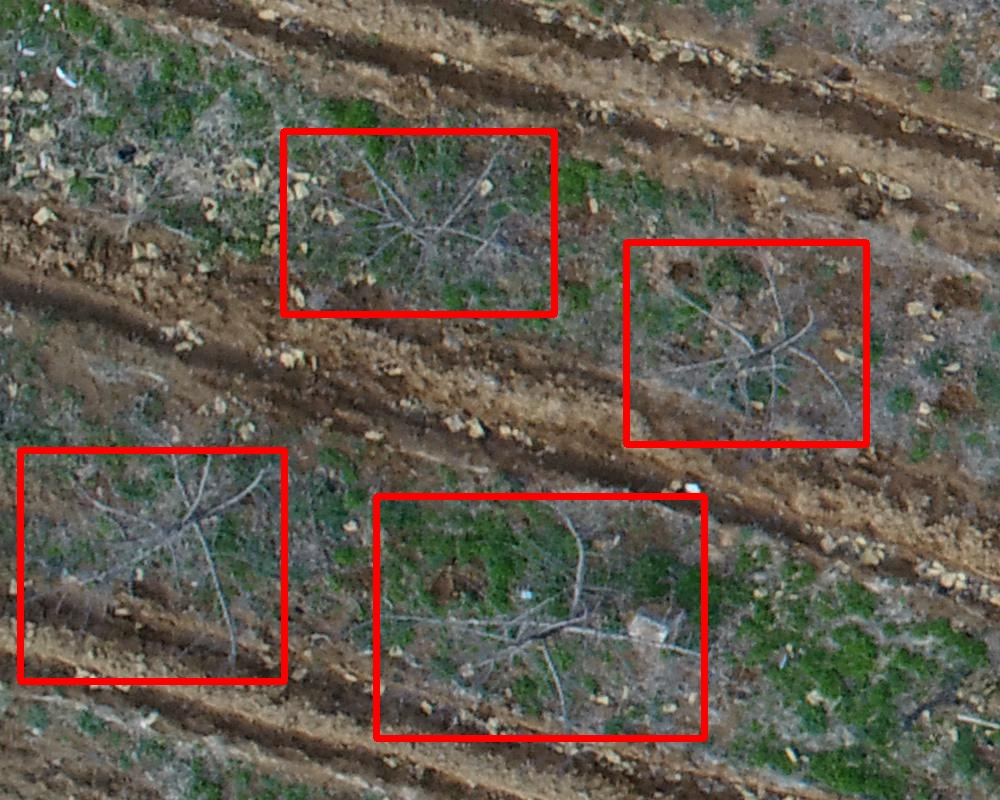apple: (376, 496, 704, 738), (20, 450, 284, 681), (283, 131, 554, 314), (626, 242, 866, 444)
